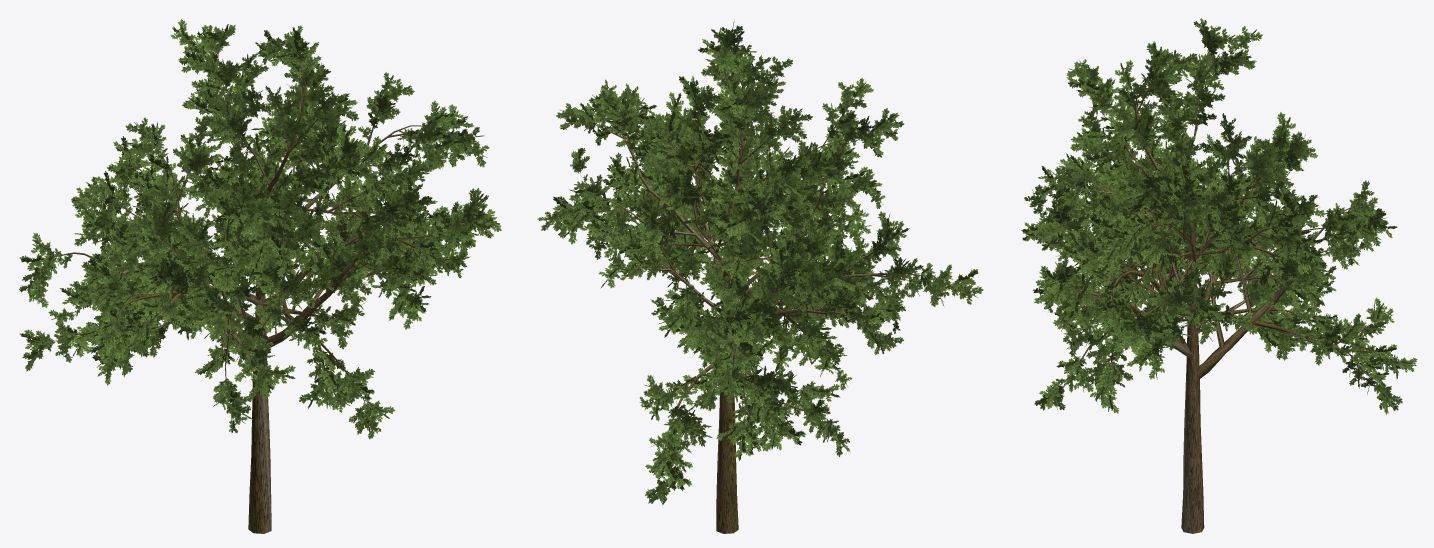
Rendered from oak_a.glb.
3 views of the same model, side by side, from view 1: azimuth 30°, elevation 25°; view 2: azimuth 150°, elevation 25°; view 3: azimuth 270°, elevation 25° (orthographic). The views are drawn at different scales.
Visible parts, largest first — view 1: Tree; view 2: Tree; view 3: Tree.
Part boxes in pixels (box(x1,y1,x2,y2)): Tree: box(19, 19, 501, 533); Tree: box(537, 21, 983, 533); Tree: box(1021, 18, 1417, 533).
Bounding box in the file's own units: 55.59 × 65.67 × 48.61.
2 materials, 2 textured.
